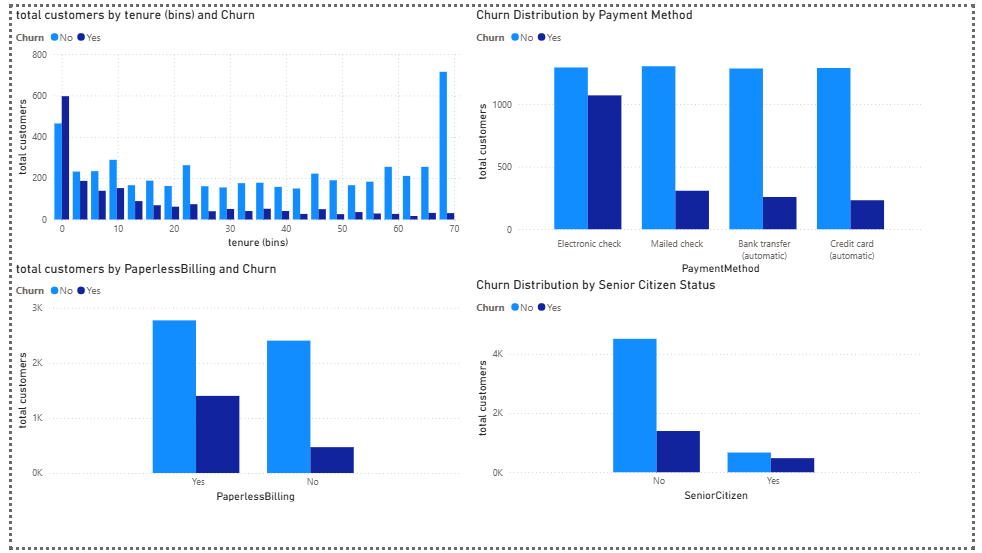

Layout of this report page (visuals, bound fields, positions):
{"tool":"powerbi","page":{"name":"Page 2","canvas":[1280,720],"ordinal":1},"visuals":[{"type":"clusteredColumnChart","fields":{"Y":["WA_Fn-UseC_-Telco-Customer-Chur.total customers"],"Series":["WA_Fn-UseC_-Telco-Customer-Chur.Churn"],"Category":["WA_Fn-UseC_-Telco-Customer-Chur.tenure (bins)"]},"box":[0,0,604,326],"z":0},{"type":"clusteredColumnChart","title":"Churn Distribution by Payment Method","fields":{"Category":["WA_Fn-UseC_-Telco-Customer-Chur.PaymentMethod"],"Y":["WA_Fn-UseC_-Telco-Customer-Chur.total customers"],"Series":["WA_Fn-UseC_-Telco-Customer-Chur.Churn"]},"box":[614,0,604,360],"z":1000},{"type":"clusteredColumnChart","fields":{"Category":["WA_Fn-UseC_-Telco-Customer-Chur.PaperlessBilling"],"Y":["WA_Fn-UseC_-Telco-Customer-Chur.total customers"],"Series":["WA_Fn-UseC_-Telco-Customer-Chur.Churn"]},"box":[0,337,604,326],"z":2000},{"type":"clusteredColumnChart","title":"Churn Distribution by Senior Citizen Status","fields":{"Category":["WA_Fn-UseC_-Telco-Customer-Chur.SeniorCitizen"],"Y":["WA_Fn-UseC_-Telco-Customer-Chur.total customers"],"Series":["WA_Fn-UseC_-Telco-Customer-Chur.Churn"]},"box":[614,360,604,303],"z":3000}]}

Visuals, with their boxes in screenshot pixels (x1, y1, x2, y2), scaled from the page's 1280x720 canvas onto the 982x553 screenshot:
clusteredColumnChart - WA_Fn-UseC_-Telco-Customer-Chur.total customers x WA_Fn-UseC_-Telco-Customer-Chur.Churn: <bbox>0, 0, 463, 250</bbox>
"Churn Distribution by Payment Method" clusteredColumnChart: <bbox>471, 0, 934, 276</bbox>
clusteredColumnChart - WA_Fn-UseC_-Telco-Customer-Chur.PaperlessBilling x WA_Fn-UseC_-Telco-Customer-Chur.total customers: <bbox>0, 259, 463, 509</bbox>
"Churn Distribution by Senior Citizen Status" clusteredColumnChart: <bbox>471, 276, 934, 509</bbox>
